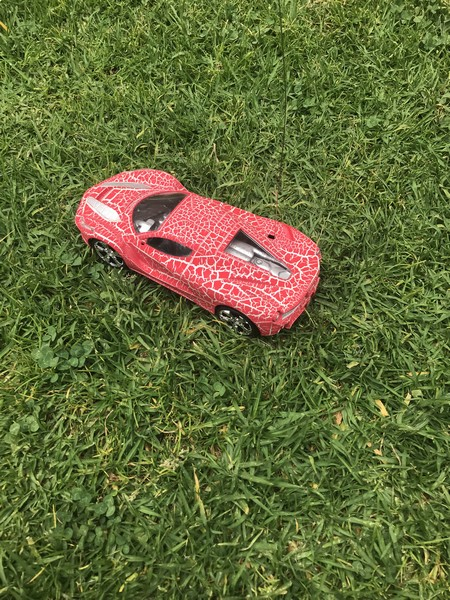RC: (71, 168, 324, 340)
